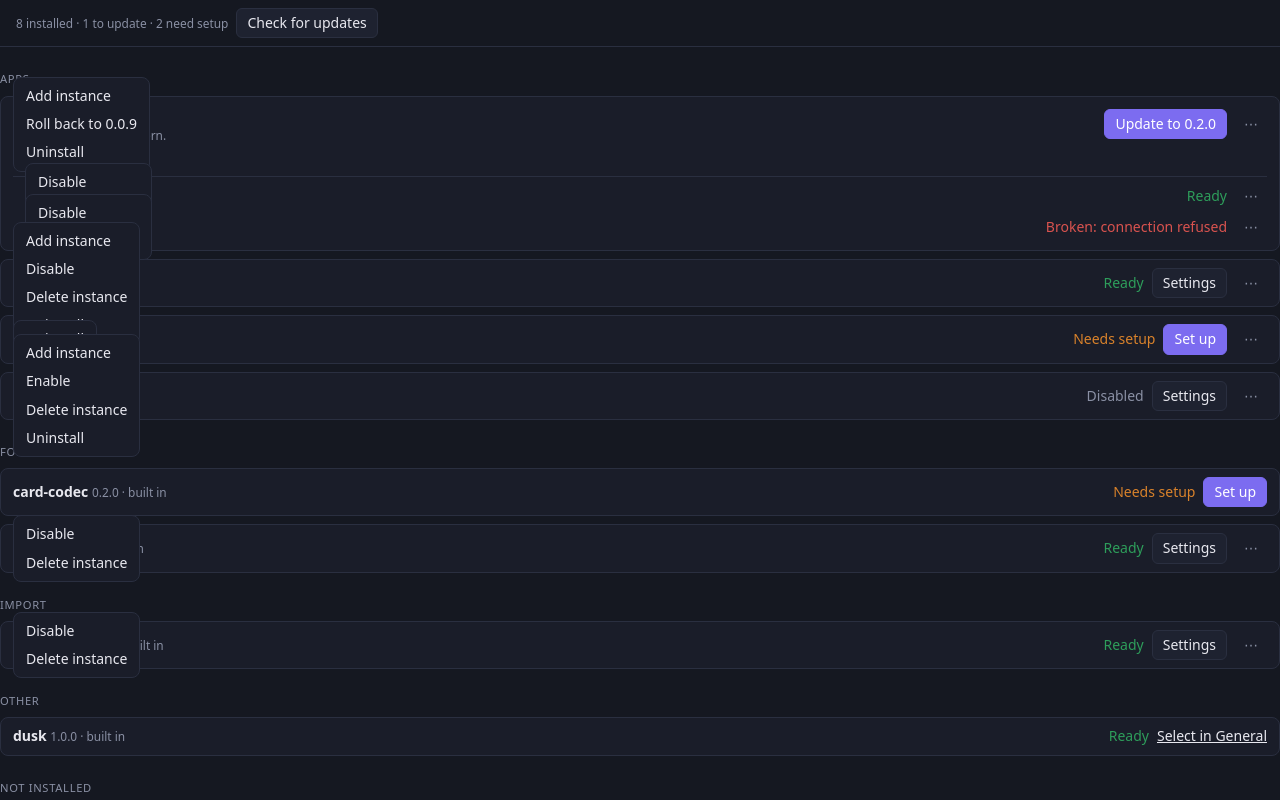
Test: cancelling the Delete instance confirm sends no DELETE
The image size is (1280, 800).
Click the button with aria-label "Delete instance office".
click(77, 297)  # box x1=18 y1=283 x2=135 y2=311
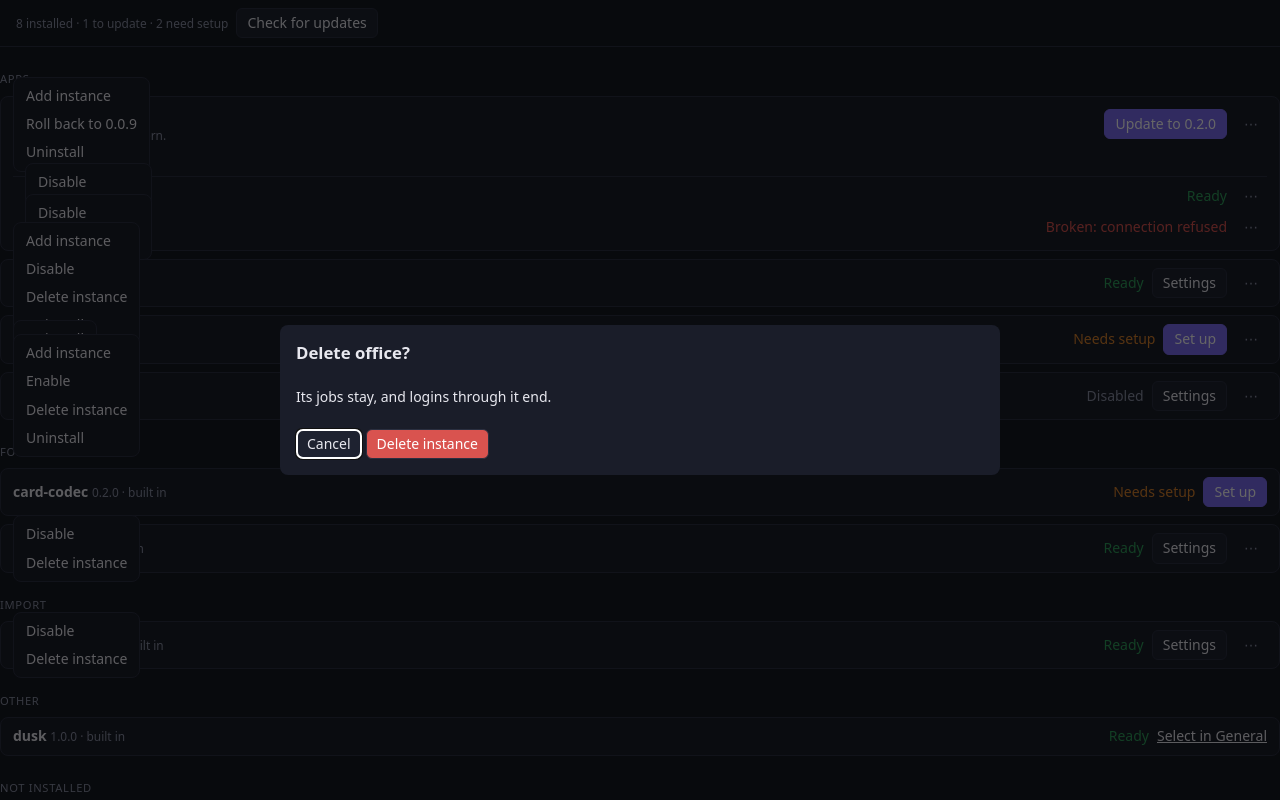
Click the button "Cancel".
click(329, 444)  # box x1=296 y1=429 x2=362 y2=460
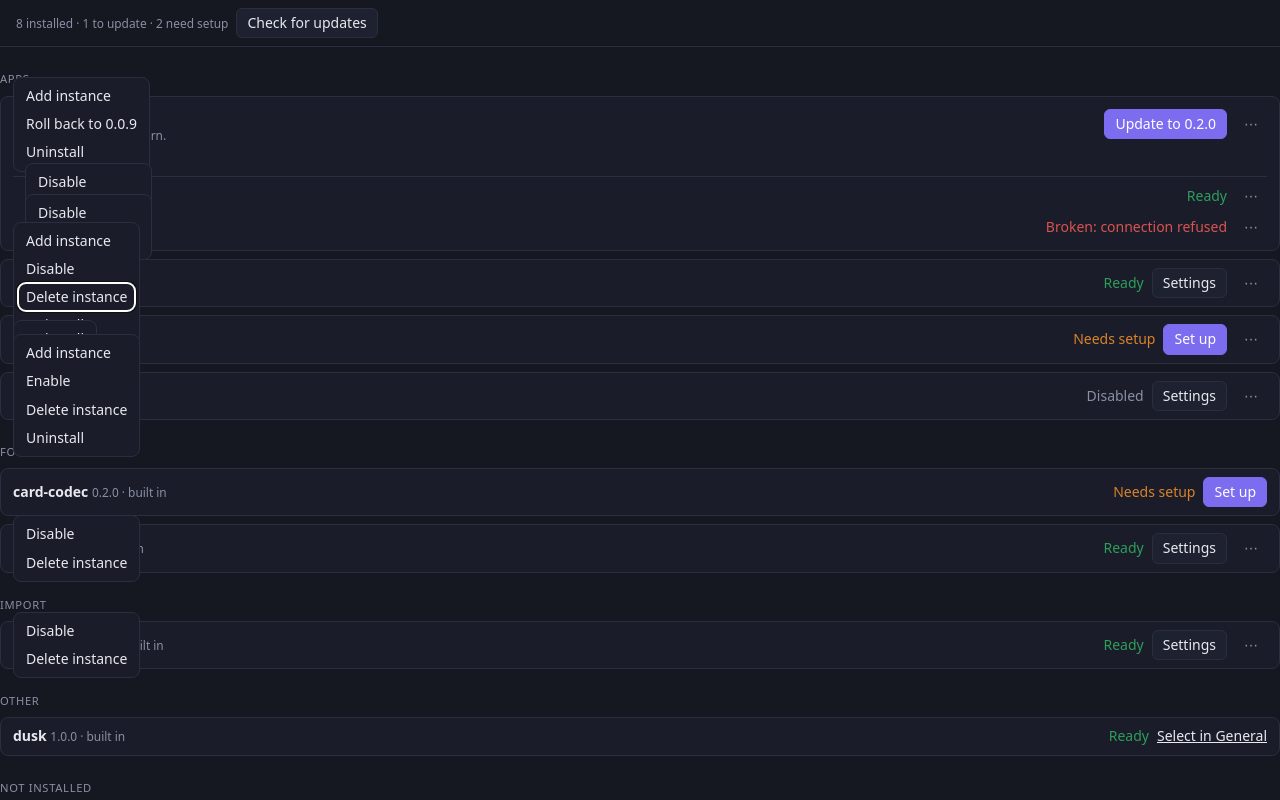
Check: the dialog is gone
